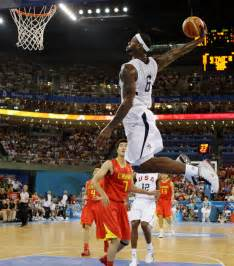basketball: (181, 16, 204, 38)
